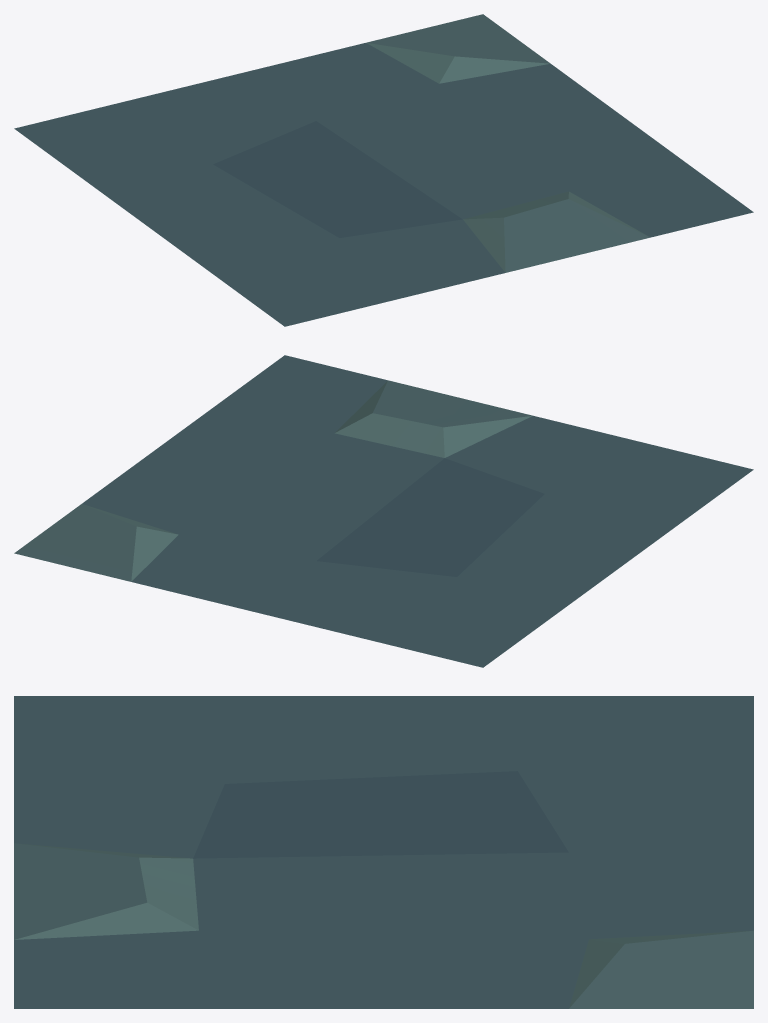
Rendered from wall_2m_top.fbx.
3 renders of one model, top to bottom at view 1: azimuth 30°, elevation 25°; view 2: azimuth 150°, elevation 25°; view 3: azimuth 270°, elevation 25°, orthographic. The views are drawn at different scales.
Visible parts, largest first — view 1: wall_2m_top; view 2: wall_2m_top; view 3: wall_2m_top.
Part boxes in pixels (bbox=[...]): wall_2m_top: bbox=[14, 14, 753, 326]; wall_2m_top: bbox=[14, 355, 753, 667]; wall_2m_top: bbox=[14, 696, 753, 1008].
Size of the model in its own units: 200 by 4.5 by 200.
